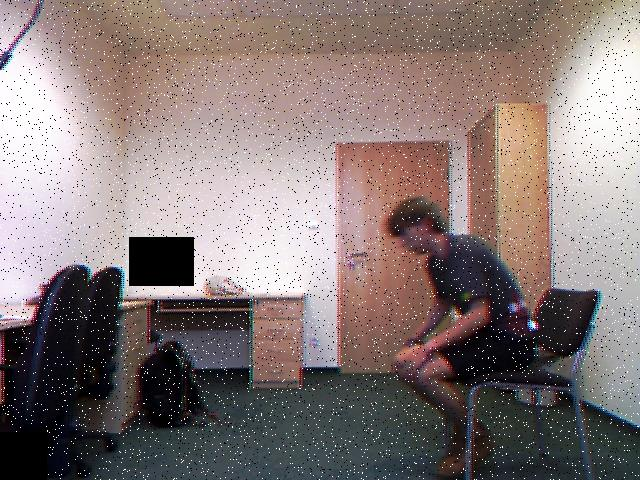near-fall: (360, 180, 546, 480)
